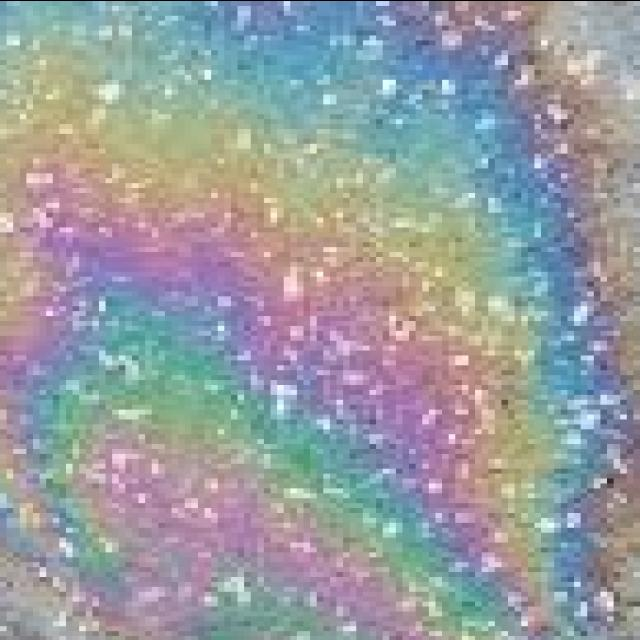-: (0, 0, 640, 640), (0, 0, 574, 640), (0, 280, 640, 640), (0, 0, 587, 364), (20, 0, 541, 394), (0, 0, 402, 256)
